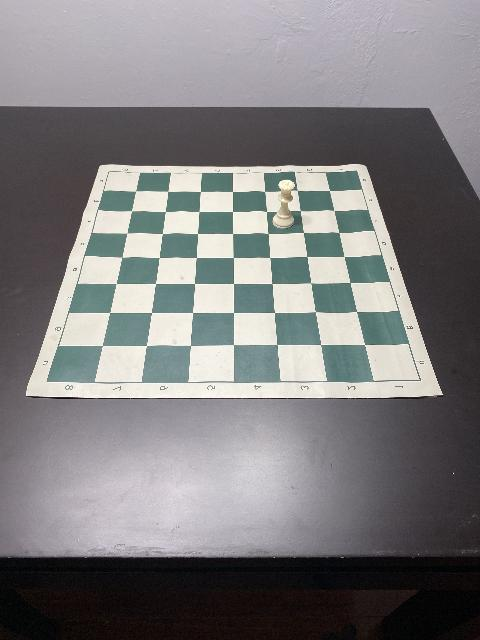board: (25, 161, 443, 399)
white-queen: (272, 178, 296, 228)
